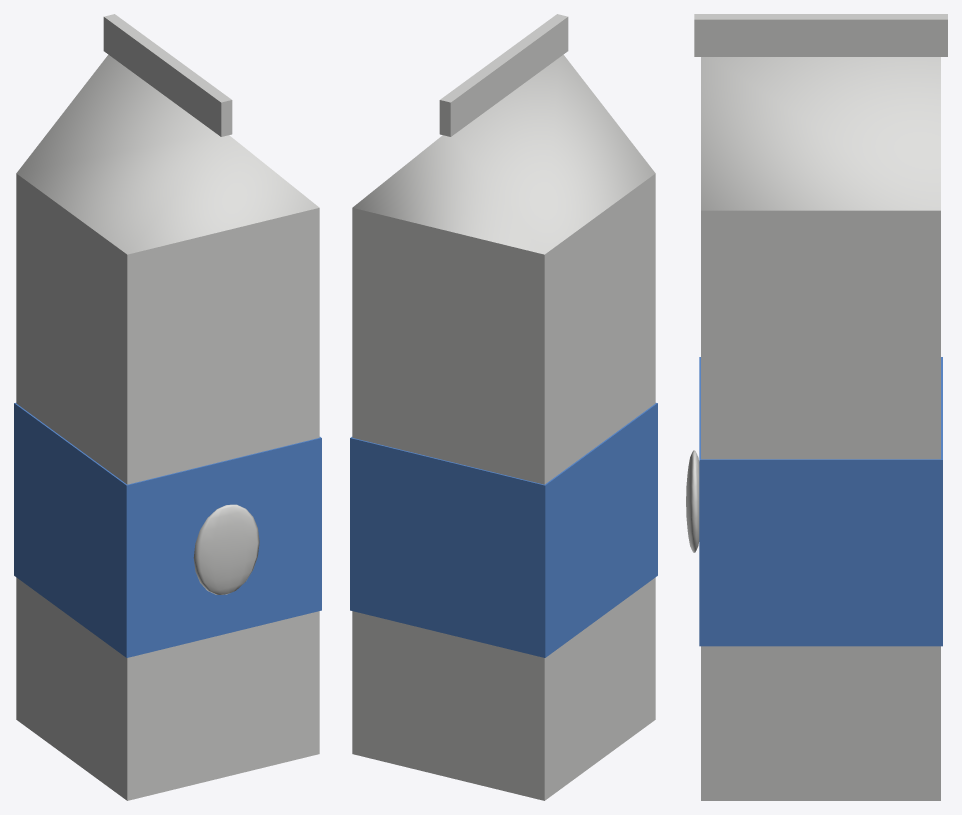
File: milkCarton.glb
The picture shows the model from 3 angles, left to right: view 1: azimuth 30°, elevation 25°; view 2: azimuth 150°, elevation 25°; view 3: azimuth 270°, elevation 25°; orthographic projection. The views are drawn at different scales.
Visible parts, largest first — view 1: box, band, roof, seam, drop; view 2: box, band, roof, seam; view 3: box, band, roof, seam, drop.
Part boxes in pixels (bbox=[...]): box: bbox=[16, 173, 319, 800]; band: bbox=[14, 403, 321, 657]; roof: bbox=[16, 55, 319, 254]; seam: bbox=[103, 14, 232, 136]; drop: bbox=[193, 504, 259, 594]; box: bbox=[352, 173, 655, 800]; band: bbox=[350, 403, 657, 657]; roof: bbox=[352, 55, 655, 254]; seam: bbox=[439, 14, 568, 136]; box: bbox=[701, 210, 940, 800]; band: bbox=[699, 357, 942, 646]; roof: bbox=[701, 57, 940, 210]; seam: bbox=[694, 14, 947, 56]; drop: bbox=[686, 450, 699, 552].
Size of the model in its own units: 0.071 by 0.236 by 0.0764.
